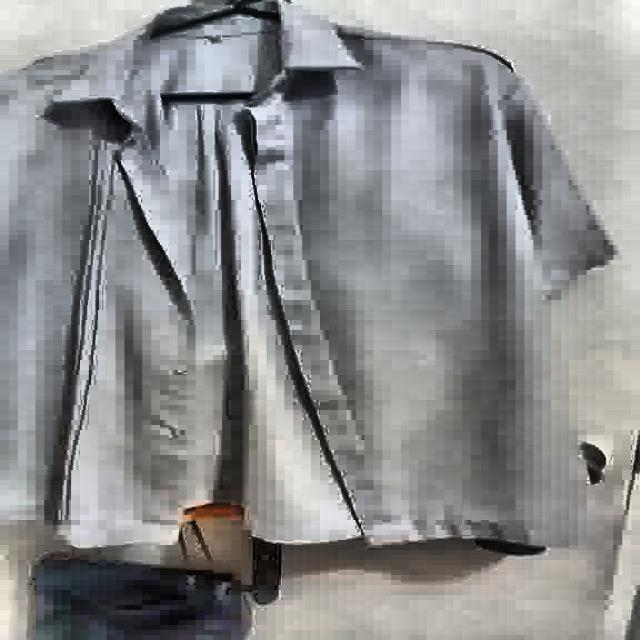clothes: (0, 0, 607, 558)
